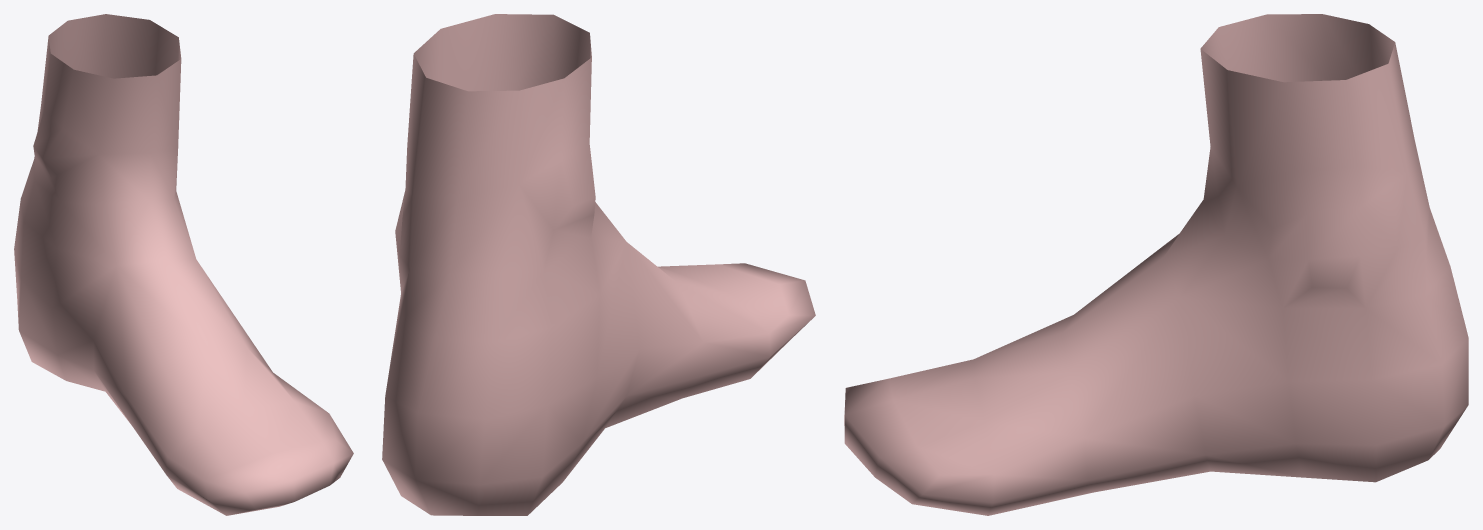
Rendered from Anime_Male_A_Foot02.fbx.
The picture shows the model from 3 angles, left to right: view 1: azimuth 30°, elevation 25°; view 2: azimuth 150°, elevation 25°; view 3: azimuth 270°, elevation 25°; orthographic projection. The views are drawn at different scales.
Visible parts, largest first — view 1: Anime_Male_A_Foot02; view 2: Anime_Male_A_Foot02; view 3: Anime_Male_A_Foot02.
Part boxes in pixels (bbox=[...]): Anime_Male_A_Foot02: bbox=[14, 14, 353, 515]; Anime_Male_A_Foot02: bbox=[382, 14, 815, 515]; Anime_Male_A_Foot02: bbox=[844, 14, 1468, 515].
Size of the model in its own units: 0.5859 by 1.1 by 1.47.
